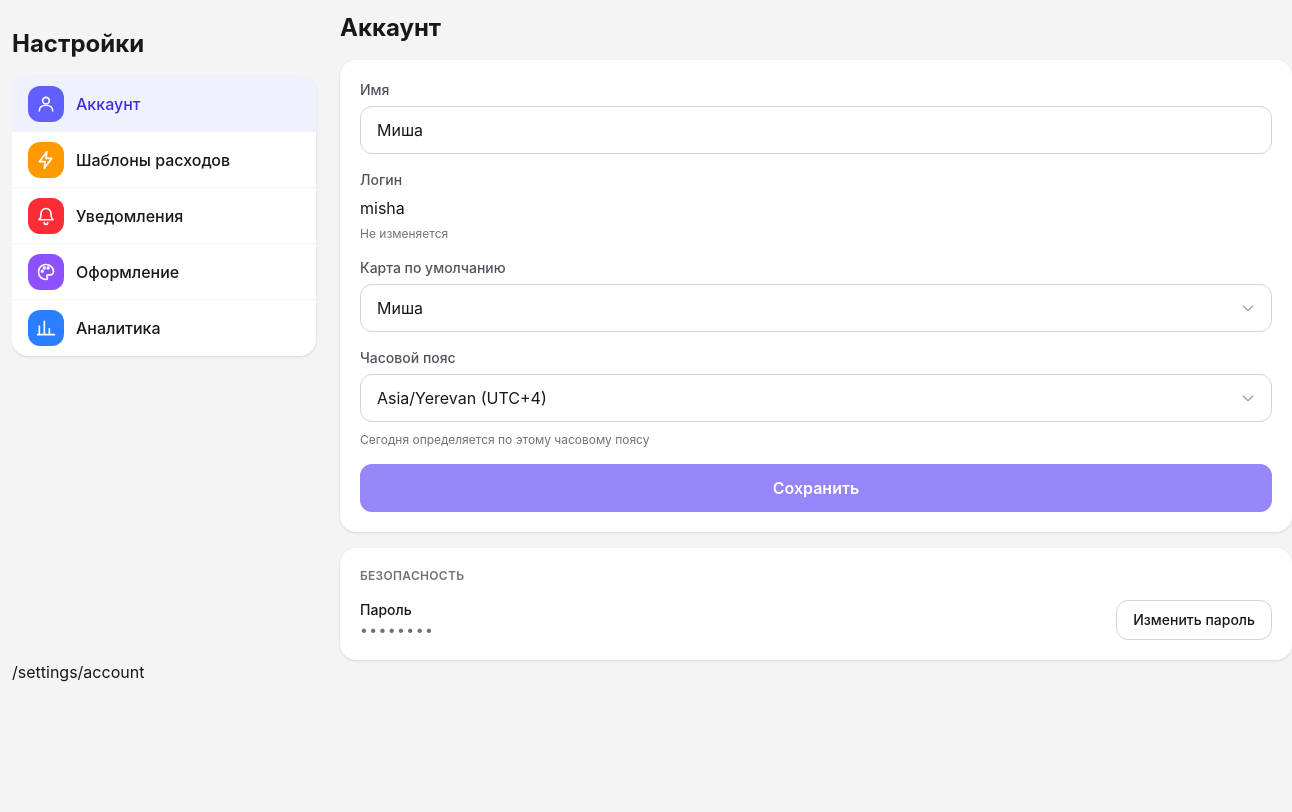
настройки на компьютере › нажатие на раздел в меню меняет правую часть, выбранный выделен
The width and height of the screenshot is (1292, 812).
Check: the navigation bar named "Разделы настроек" is shown, box [12,76,316,356]
Click the link "Оформление".
click(164, 272)  # box [12,244,316,300]
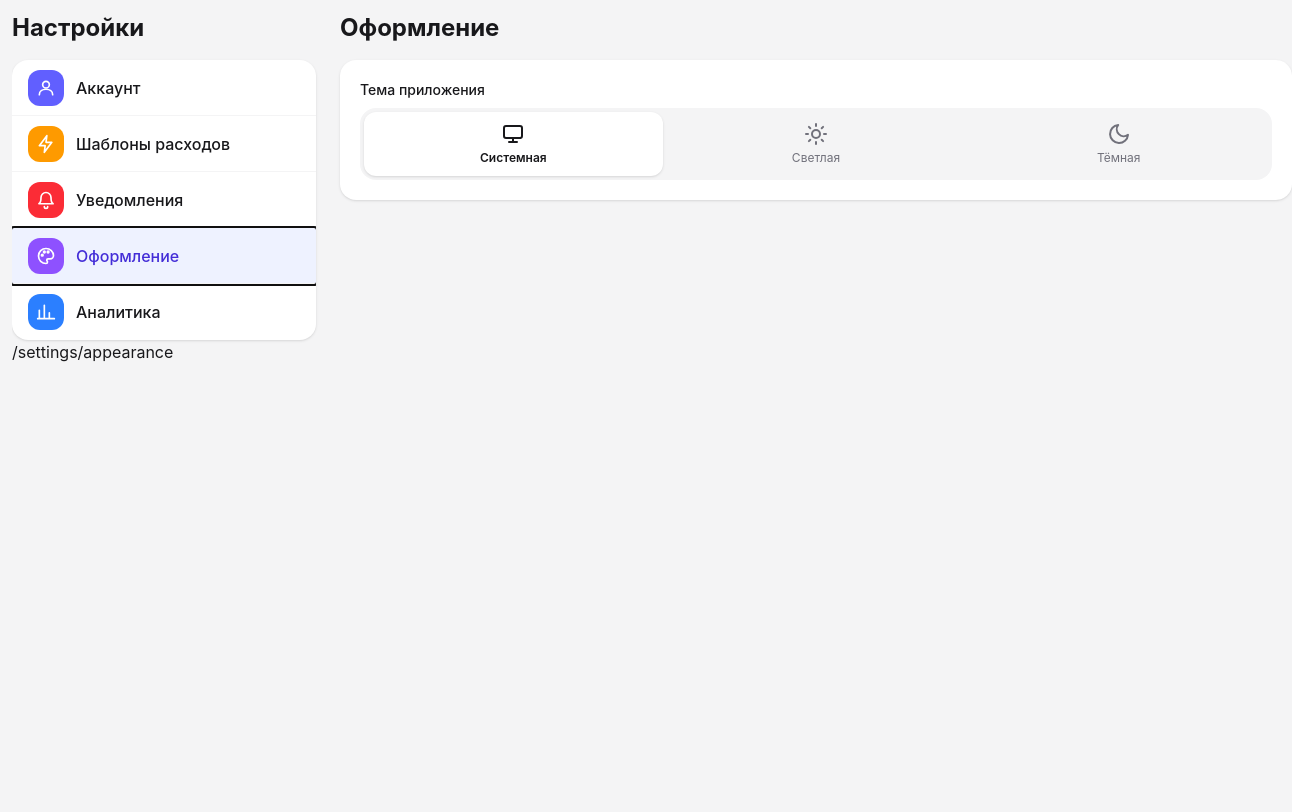
Check: the heading "Оформление" is shown, box [340,13,499,42]
